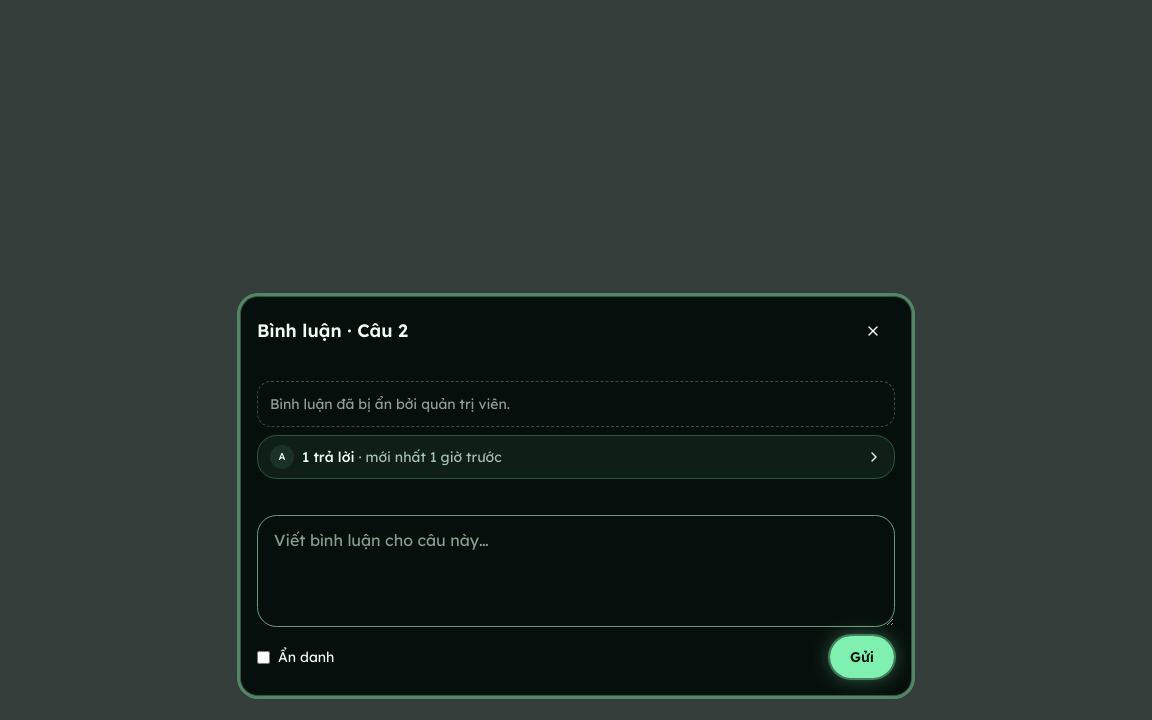
Test: CommentSheet — xoá gốc còn trả lời (AC-R4, AC-R6) › dòng mờ 'bị ẩn bởi quản trị viên' từ server hiện đúng chữ, không danh tính, vẫn mở được mạch
The image size is (1152, 720).
Expected: the text "Bình luận đã bị ẩn bởi quản trị viên." is shown, [257,381,895,427]
Click the button "A 1 trả lời · mới nhất 1 giờ trước" at coordinates (328, 457), box [257,435,895,479]
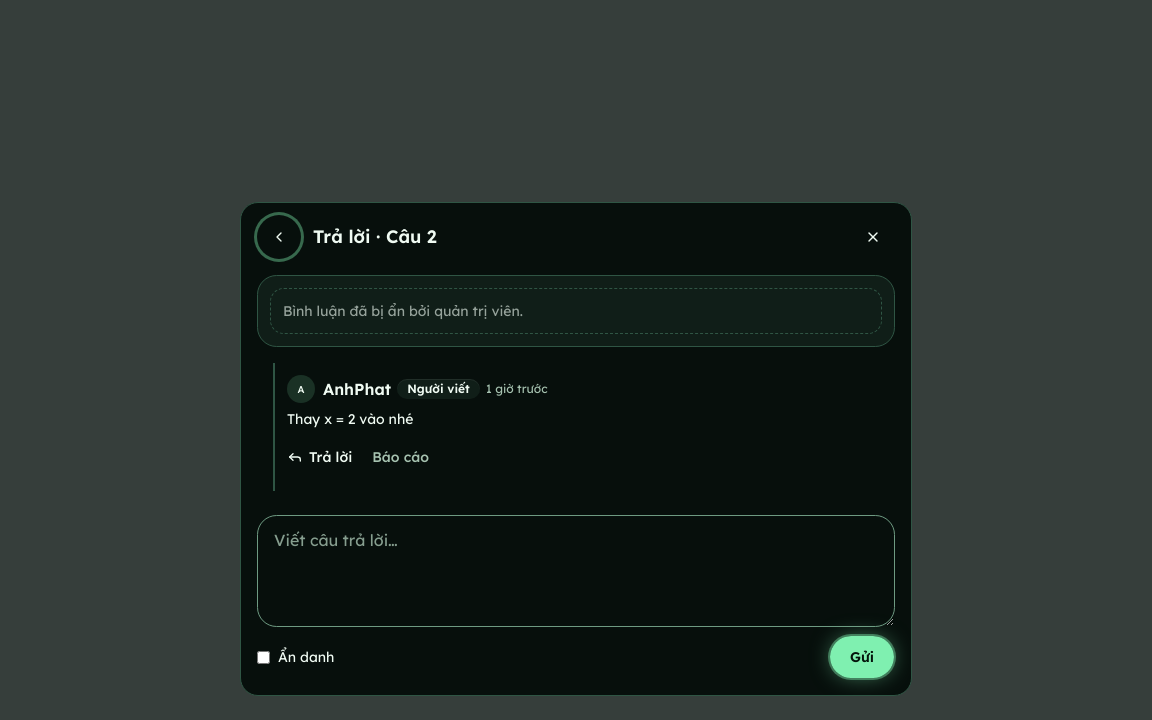
Now the text "Thay x = 2 vào nhé" is shown, box [287,410,413,428]
Now the text box with placeholder "Viết câu trả lời…" is shown, box [257,515,895,627]
